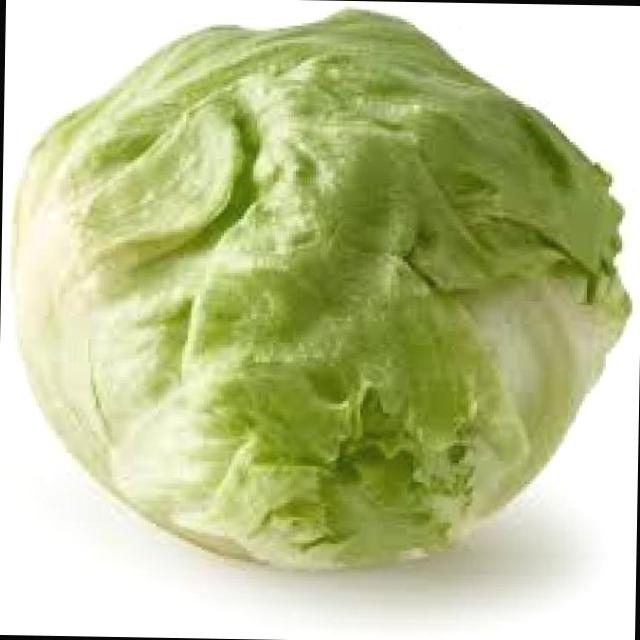Lettuce-Ready-to-Harvest: (14, 10, 628, 566)
